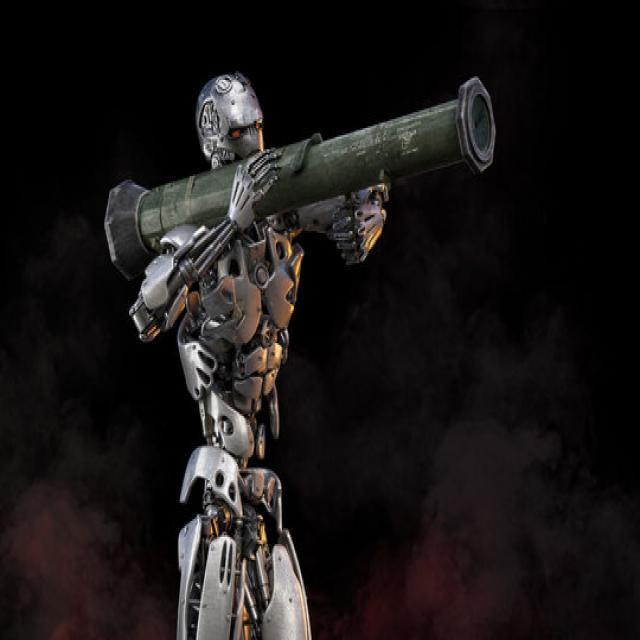rocket launcher: (104, 72, 504, 279)
